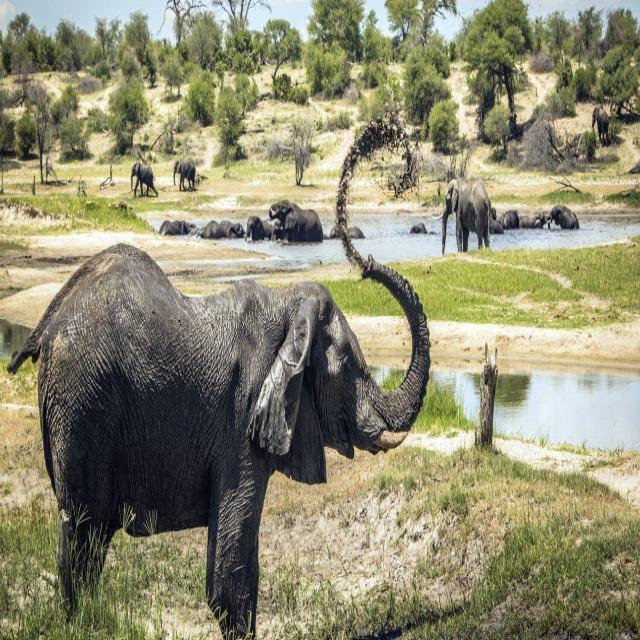Elephant: (7, 110, 431, 638), (433, 177, 491, 254), (268, 199, 323, 243), (130, 161, 159, 197), (173, 158, 195, 191), (592, 105, 609, 146)
